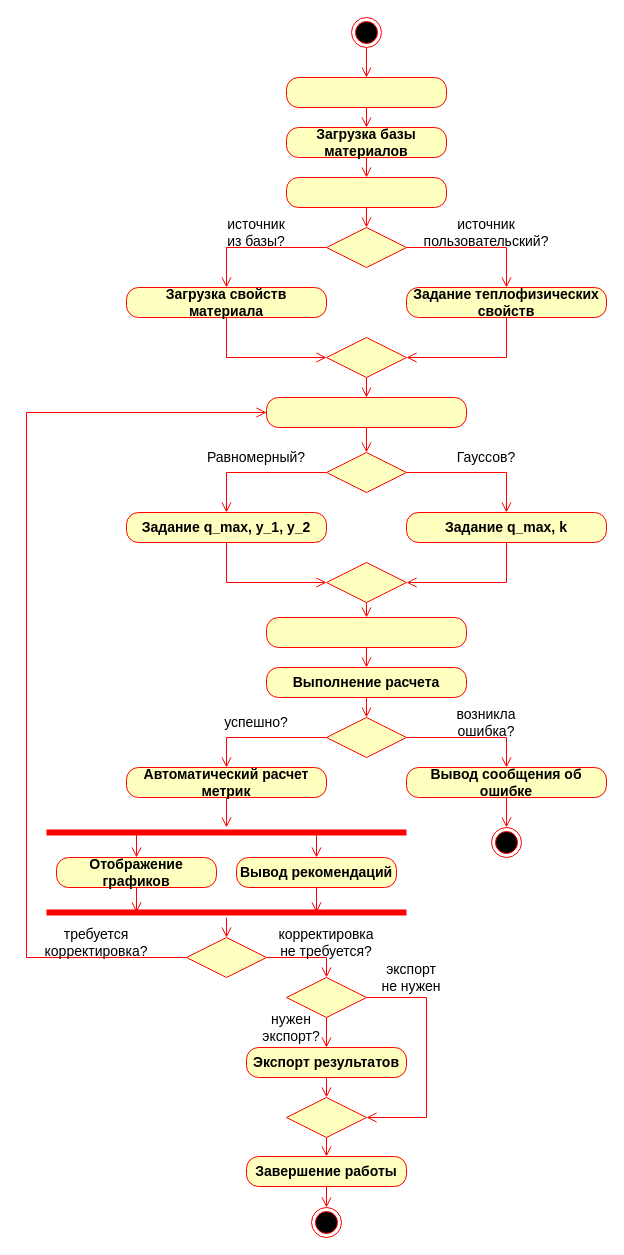
Some shapes in this 624 by 1255 pixel diagram are drawn without their labels. Each missing label, with the box of its shape:
Выбор материала: (286, 176, 446, 208)
Задание граничных условий: (266, 616, 466, 648)
Запуск программы: (286, 76, 446, 108)
Настройка параметров источника: (266, 396, 466, 428)
